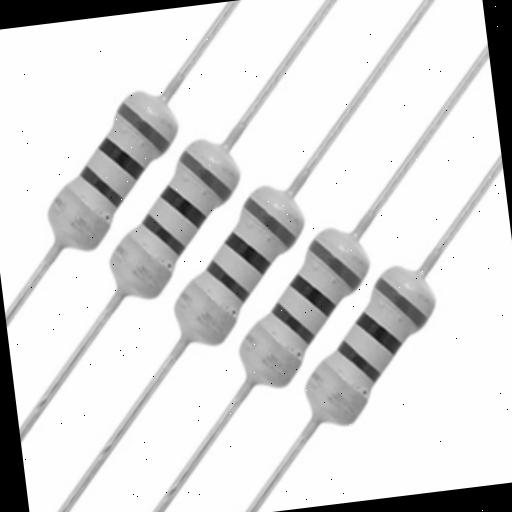RESISTOR: (18, 60, 208, 283), (213, 182, 394, 400), (296, 217, 455, 449), (160, 152, 326, 366), (98, 120, 246, 316)
